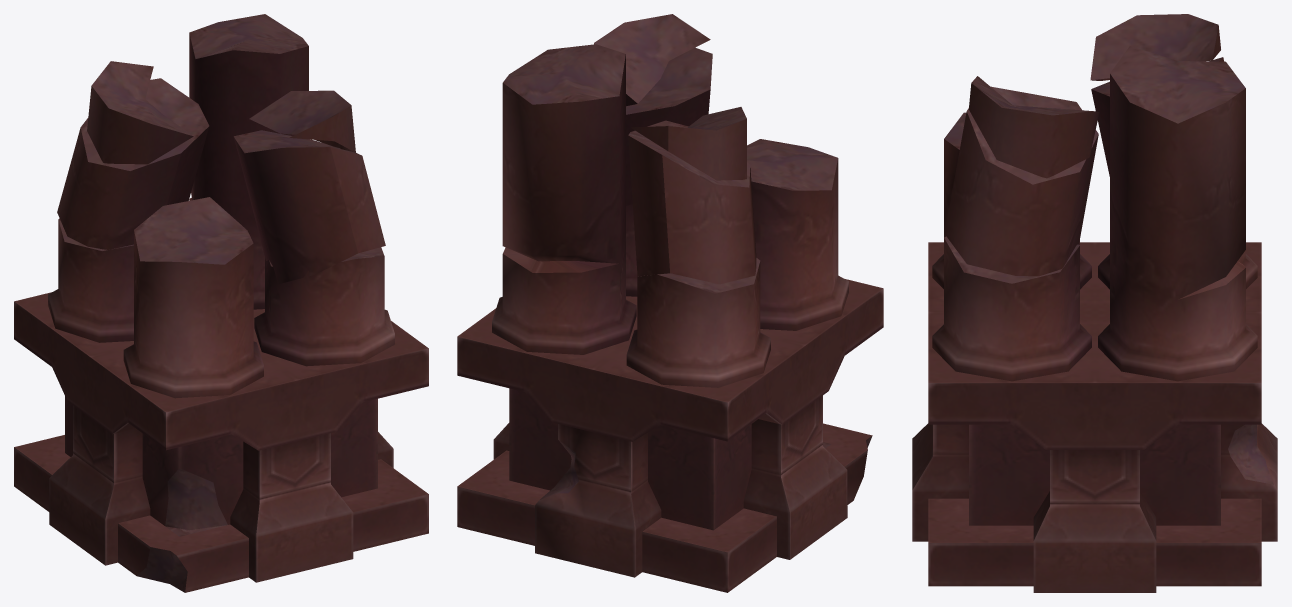
File: Dungeons_03_02_13.FBX
The picture shows the model from 3 angles, left to right: view 1: azimuth 30°, elevation 25°; view 2: azimuth 150°, elevation 25°; view 3: azimuth 270°, elevation 25°; orthographic projection. The views are drawn at different scales.
Parts seen in each view (by area): view 1: Object341; view 2: Object341; view 3: Object341.
Boxes of the visible parts, bbox=[...] form: Object341: bbox=[14, 14, 428, 592]; Object341: bbox=[457, 14, 883, 592]; Object341: bbox=[912, 14, 1277, 592].
Size of the model in its own units: 30.99 by 45.36 by 30.99.
